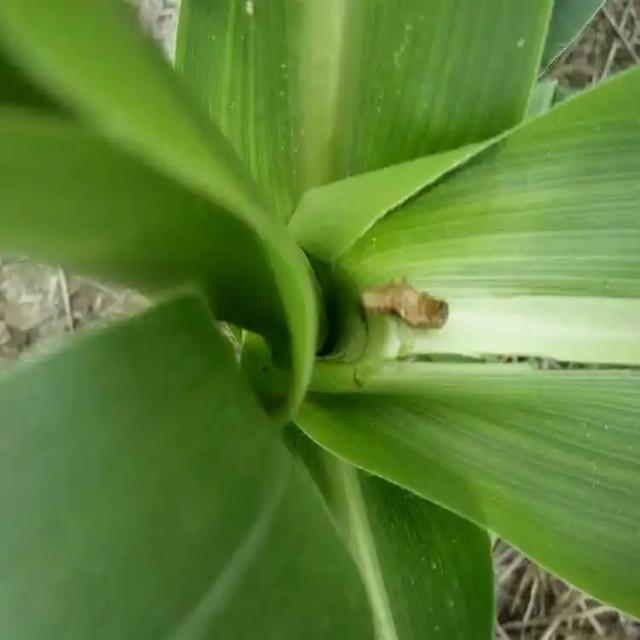pest: (366, 286, 454, 333)
